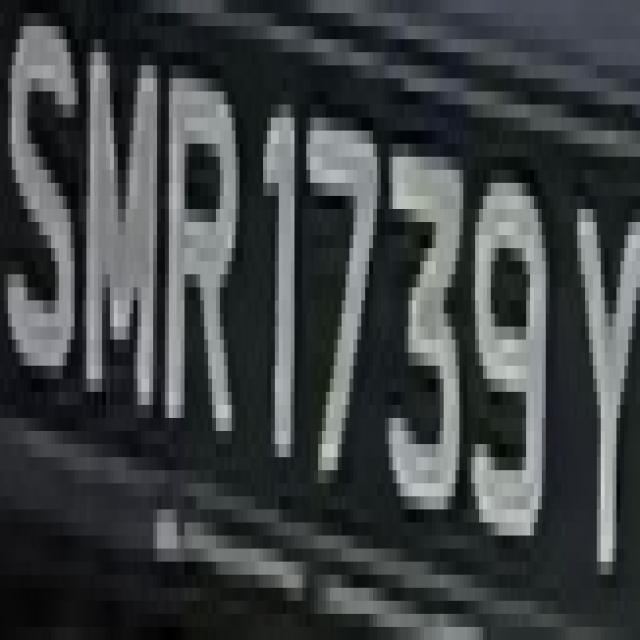1: (263, 26, 302, 496)
3: (369, 105, 463, 574)
7: (286, 66, 384, 497)
9: (467, 118, 558, 574)
M: (78, 13, 169, 418)
R: (157, 52, 240, 484)
S: (12, 26, 78, 392)
Y: (3, 3, 4, 13)
